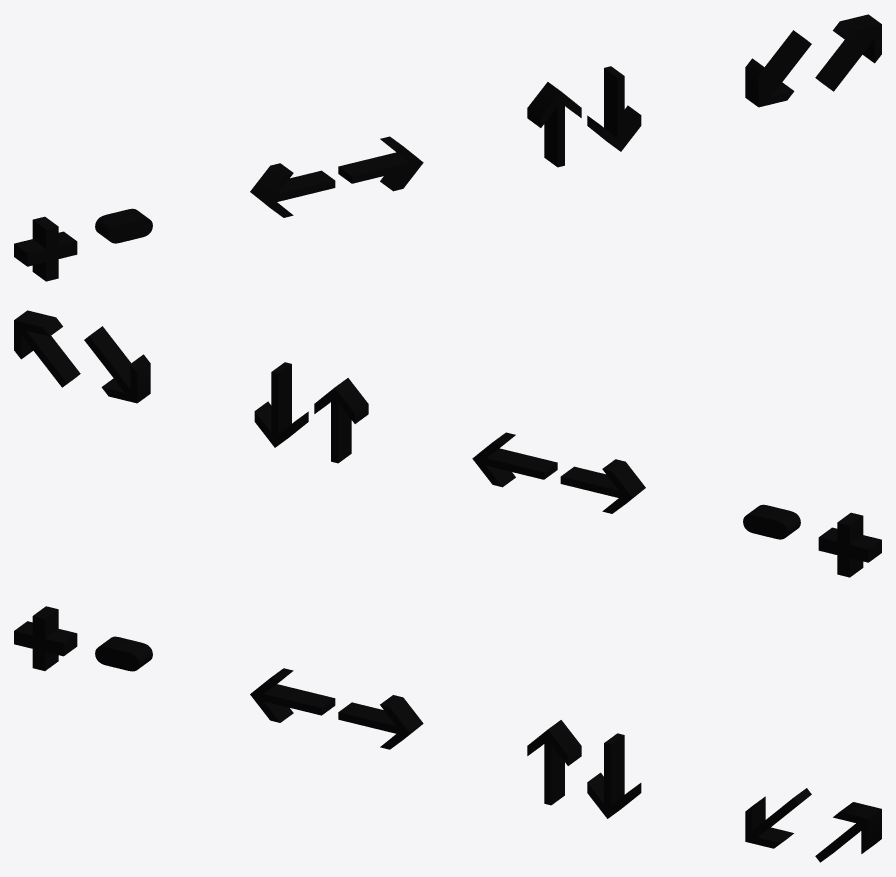
Rendered from TransformButtons.glb.
3 views of the same model, one above another, from view 1: azimuth 30°, elevation 25°; view 2: azimuth 150°, elevation 25°; view 3: azimuth 330°, elevation 25° (orthographic).
Visible parts, largest first — view 1: mesh_id57, mesh_id55, mesh_id56; view 2: mesh_id57, mesh_id55, mesh_id56; view 3: mesh_id57, mesh_id55, mesh_id56.
Part boxes in pixels (x1,y1,x2,y2): mesh_id57: (250, 14, 881, 217); mesh_id55: (14, 216, 77, 281); mesh_id56: (95, 208, 152, 243); mesh_id57: (14, 310, 645, 513); mesh_id55: (818, 512, 881, 577); mesh_id56: (743, 504, 800, 539); mesh_id57: (250, 668, 881, 862); mesh_id55: (14, 606, 77, 670); mesh_id56: (95, 636, 152, 671).
Bounding box in the file's own units: 0.5491 × 0.0461 × 0.015.
3 materials, 3 textured.
